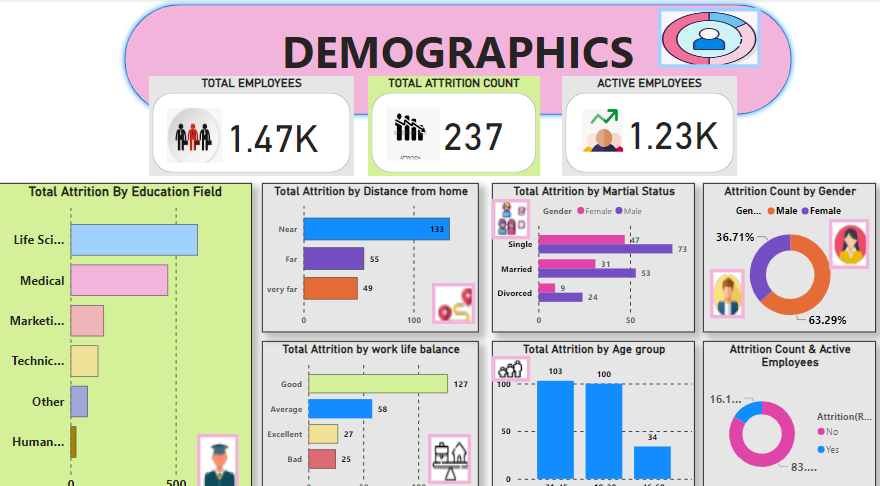

The dashboard page shown, as its layout file describes it:
{"tool":"powerbi","page":{"name":"Page 2","canvas":[1280,720],"ordinal":1},"visuals":[{"type":"shape","box":[175.7,0,976.3,174.2],"z":0},{"type":"image","box":[951.8,13,148.3,86.4],"z":1000},{"type":"cardVisual","title":"TOTAL EMPLOYEES","fields":{"Data":["Sum(HR-Employee-Attrition.Employee Count)"]},"box":[218.9,110.9,295.2,144],"z":2000},{"type":"clusteredBarChart","title":"Total Attrition By Education Field","fields":{"Category":["HR-Employee-Attrition.Field"],"Y":["Sum(HR-Employee-Attrition.Employee Count)"]},"box":[0,265,367.2,455],"z":3000},{"type":"cardVisual","title":"TOTAL ATTRITION COUNT","fields":{"Data":["HR-Employee-Attrition.Total Attrition count"]},"box":[534.2,110.9,247.7,144],"z":4000},{"type":"cardVisual","title":"ACTIVE EMPLOYEES","fields":{"Data":["HR-Employee-Attrition.Active Employees"]},"box":[813.6,110.9,252,144],"z":5000},{"type":"clusteredBarChart","title":"Total Attrition by work life balance","fields":{"Y":["Sum(HR-Employee-Attrition.Attrition count)"],"Category":["HR-Employee-Attrition.Work Life Balance (groups)"]},"box":[381.6,492.5,312.5,227.5],"z":6000},{"type":"clusteredBarChart","title":"Total Attrition by Martial Status","fields":{"Category":["HR-Employee-Attrition.Marital Status"],"Y":["Sum(HR-Employee-Attrition.Attrition count)"],"Series":["HR-Employee-Attrition.Gender"]},"box":[712.8,265,292.3,214.6],"z":8001},{"type":"barChart","title":"Total Attrition by Distance from home","fields":{"Y":["Sum(HR-Employee-Attrition.Attrition count)"],"Category":["HR-Employee-Attrition.Distance  From Home (groups) 2"]},"box":[381.6,265,312.5,214.6],"z":8002},{"type":"columnChart","title":"Total Attrition by Age group","fields":{"Y":["Sum(HR-Employee-Attrition.Attrition count)"],"Category":["HR-Employee-Attrition.Age (groups) 2"]},"box":[712.8,492.5,292.3,227.5],"z":8003},{"type":"donutChart","title":"Attrition Count by Gender ","fields":{"Category":["HR-Employee-Attrition.Gender"],"Y":["Sum(HR-Employee-Attrition.Attrition count)"]},"box":[1016.6,265,249.1,214.6],"z":8004},{"type":"donutChart","title":"Attrition Count  & Active Employees","fields":{"Category":["HR-Employee-Attrition.Attrition(Reduction)"],"Y":["CountNonNull(HR-Employee-Attrition.Attrition(Reduction))"]},"box":[1017,492,249,228],"z":8005},{"type":"image","box":[288,626.4,60.5,83.5],"z":8006},{"type":"image","box":[712.8,514.1,54.7,37.4],"z":8007},{"type":"image","box":[620.6,626.4,61.9,72],"z":8008},{"type":"image","box":[712.8,288,54.7,57.6],"z":8009},{"type":"image","box":[626.4,409,61.9,59],"z":8010},{"type":"image","box":[1026.7,388.8,50.4,70.6],"z":8011},{"type":"image","box":[1198.1,316.8,57.6,72],"z":8012}]}

Visuals, with their boxes in screenshot pixels (x1, y1, x2, y2), scaled from the page's 1280x720 canvas onto the 880x486 screenshot:
shape: rect(121, 0, 792, 118)
image: rect(654, 9, 756, 67)
"TOTAL EMPLOYEES" cardVisual: rect(150, 75, 353, 172)
"Total Attrition By Education Field" clusteredBarChart: rect(0, 179, 252, 485)
"TOTAL ATTRITION COUNT" cardVisual: rect(367, 75, 538, 172)
"ACTIVE EMPLOYEES" cardVisual: rect(559, 75, 733, 172)
"Total Attrition by work life balance" clusteredBarChart: rect(262, 332, 477, 485)
"Total Attrition by Martial Status" clusteredBarChart: rect(490, 179, 691, 324)
"Total Attrition by Distance from home" barChart: rect(262, 179, 477, 324)
"Total Attrition by Age group" columnChart: rect(490, 332, 691, 485)
"Attrition Count by Gender " donutChart: rect(699, 179, 870, 324)
"Attrition Count  & Active Employees" donutChart: rect(699, 332, 870, 485)
image: rect(198, 423, 240, 479)
image: rect(490, 347, 528, 372)
image: rect(427, 423, 469, 471)
image: rect(490, 194, 528, 233)
image: rect(431, 276, 473, 316)
image: rect(706, 262, 741, 310)
image: rect(824, 214, 863, 262)
